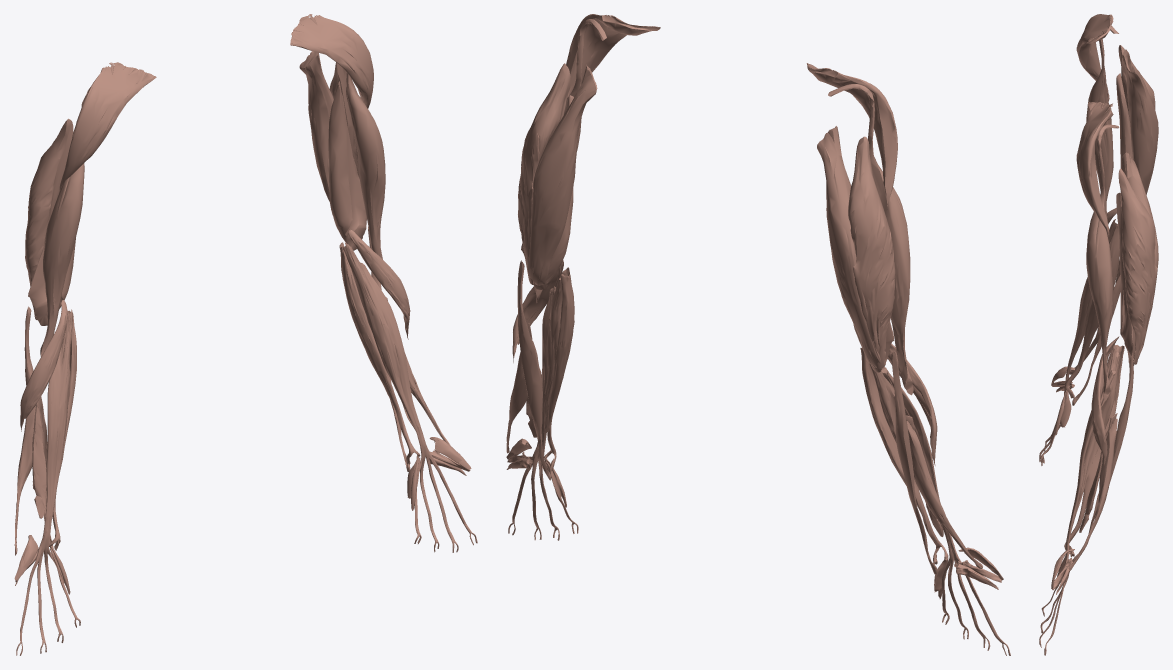
The model's file is other-19.glb.
3 renders of one model, left to right at view 1: azimuth 30°, elevation 25°; view 2: azimuth 150°, elevation 25°; view 3: azimuth 270°, elevation 25°, orthographic. The views are drawn at different scales.
Visible parts, largest first — view 1: FJ1475M, FJ1475, FJ1468, FJ1478, FJ1480M, FJ1478M, FJ1468M, FJ1477, FJ1479M, FJ1473M, FJ1474, FJ1474M (+6 smaller); view 2: FJ1477, FJ1479M, FJ1479, FJ1478, FJ1477M, FJ1475, FJ1475M, FJ1468, FJ1468M, FJ1472M, FJ1473M, FJ1473 (+7 smaller); view 3: FJ1477M, FJ1478M, FJ1479, FJ1475M, FJ1468M, FJ1478, FJ1468, FJ1473, FJ1475, FJ1480M, FJ1474M, FJ1484M (+8 smaller).
Part boxes in pixels (left/top/right/bottom): FJ1475M: left=341, top=242, right=477, bottom=552; FJ1475: left=16, top=309, right=80, bottom=655; FJ1468: left=59, top=62, right=156, bottom=191; FJ1478: left=40, top=87, right=90, bottom=356; FJ1480M: left=328, top=81, right=366, bottom=250; FJ1478M: left=346, top=73, right=385, bottom=259; FJ1468M: left=290, top=14, right=373, bottom=108; FJ1477: left=25, top=118, right=73, bottom=320; FJ1479M: left=299, top=51, right=333, bottom=201; FJ1473M: left=339, top=242, right=420, bottom=464; FJ1474: left=20, top=300, right=67, bottom=431; FJ1474M: left=348, top=229, right=410, bottom=339; FJ1477: left=848, top=136, right=895, bottom=369; FJ1479M: left=527, top=65, right=597, bottom=285; FJ1479: left=817, top=126, right=881, bottom=367; FJ1478: left=828, top=84, right=913, bottom=395; FJ1477M: left=518, top=63, right=570, bottom=284; FJ1475: left=869, top=363, right=1010, bottom=655; FJ1475M: left=508, top=267, right=578, bottom=540; FJ1468: left=806, top=63, right=897, bottom=210; FJ1468M: left=566, top=14, right=660, bottom=97; FJ1472M: left=517, top=260, right=551, bottom=480; FJ1473M: left=543, top=274, right=574, bottom=471; FJ1473: left=860, top=347, right=948, bottom=564; FJ1477M: left=1118, top=168, right=1157, bottom=364; FJ1478M: left=1086, top=124, right=1119, bottom=400; FJ1479: left=1122, top=49, right=1158, bottom=194; FJ1475M: left=1039, top=342, right=1119, bottom=655; FJ1468M: left=1076, top=102, right=1113, bottom=237; FJ1478: left=1086, top=25, right=1118, bottom=229; FJ1468: left=1076, top=14, right=1113, bottom=102; FJ1473: left=1064, top=225, right=1119, bottom=398; FJ1475: left=1039, top=219, right=1117, bottom=465; FJ1480M: left=1116, top=192, right=1135, bottom=365; FJ1474M: left=1091, top=336, right=1119, bottom=465; FJ1484M: left=1068, top=418, right=1117, bottom=570.
Size of the model in its own units: 0.6117 by 0.6796 by 0.1491.
